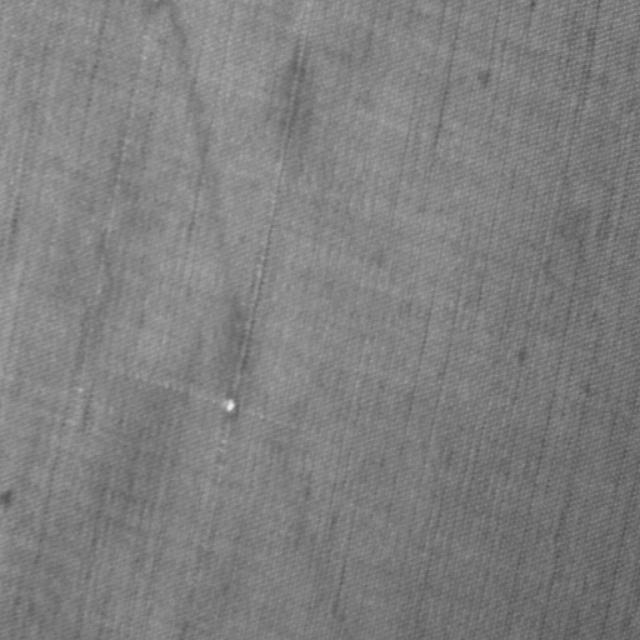hole: (222, 393, 238, 418)
